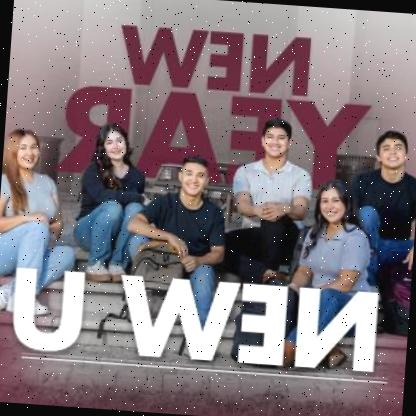person: (215, 112, 325, 288), (0, 123, 86, 317), (139, 144, 238, 294), (66, 116, 154, 284), (346, 122, 416, 286), (303, 178, 385, 306)
